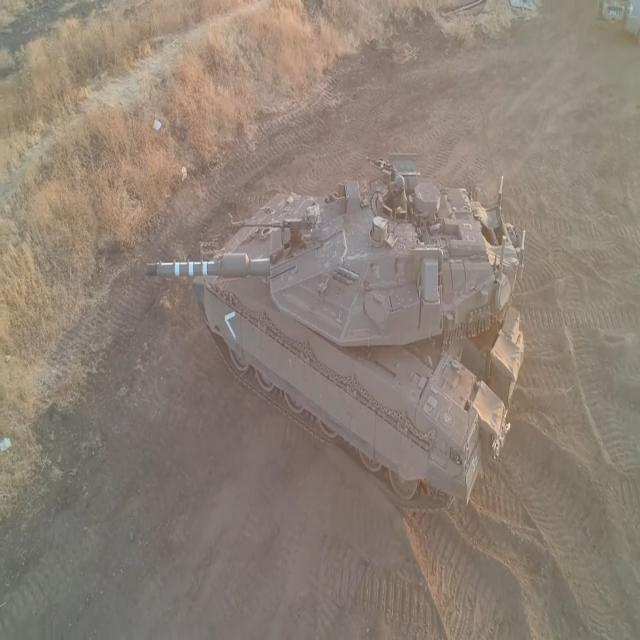tank: (141, 146, 550, 553)
